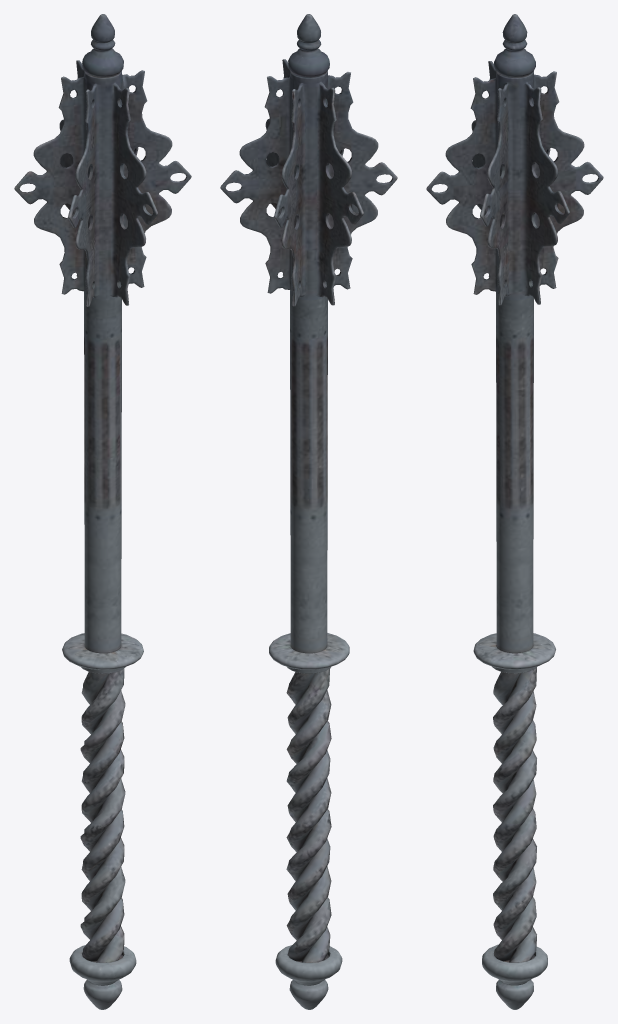
Rendered from cc0_mace.glb.
3 renders of one model, left to right at view 1: azimuth 30°, elevation 25°; view 2: azimuth 150°, elevation 25°; view 3: azimuth 270°, elevation 25°, orthographic.
Parts seen in each view (by area): view 1: ornate_medieval_mace; view 2: ornate_medieval_mace; view 3: ornate_medieval_mace.
Boxes of the visible parts, x1,y1,x2,y2 form: ornate_medieval_mace: (14, 14, 191, 1009); ornate_medieval_mace: (220, 14, 397, 1009); ornate_medieval_mace: (426, 14, 603, 1009).
Bounding box in the file's own units: 0.0949 × 0.63 × 0.1017.
1 material, 1 textured.
